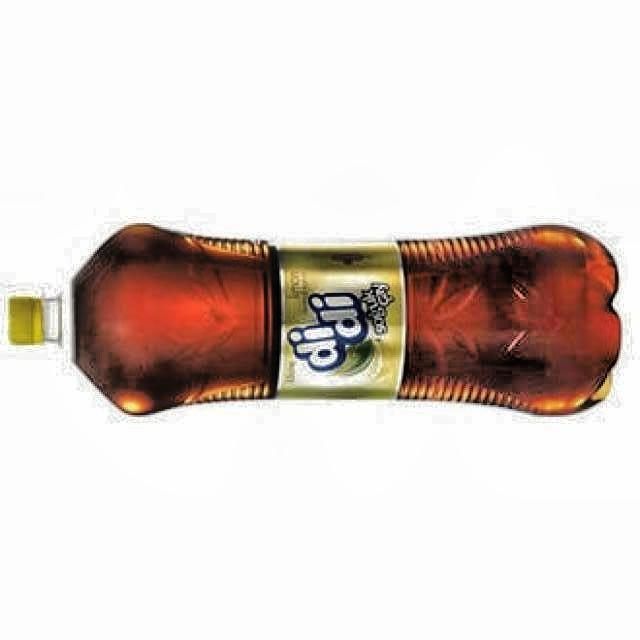plastic: (8, 224, 621, 415)
